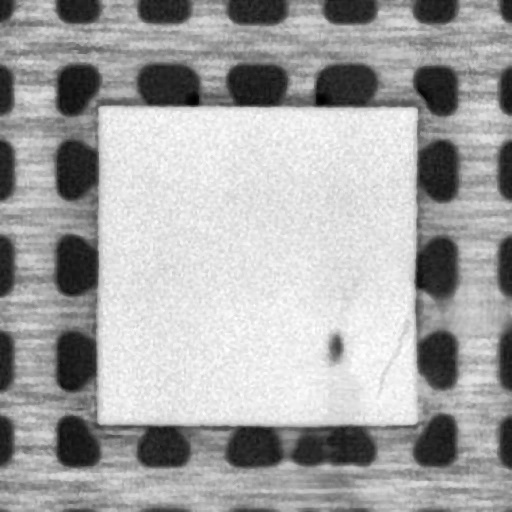DIE_CRACK: (373, 320, 409, 397)
